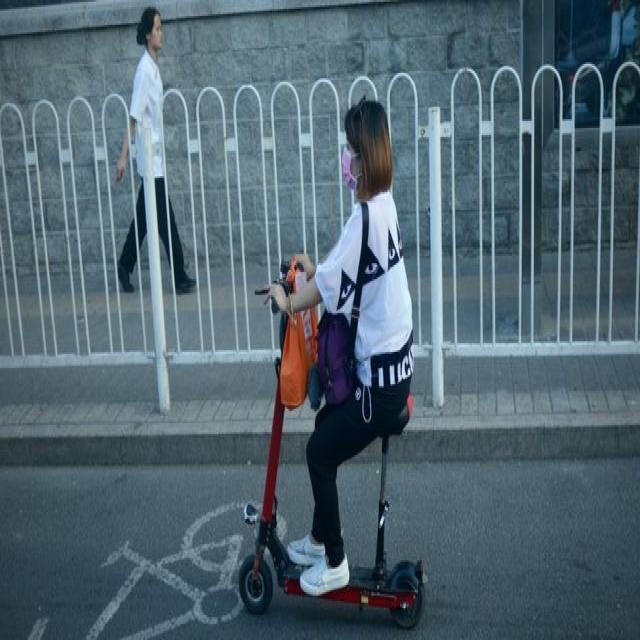non-helmet: (233, 87, 429, 634)
